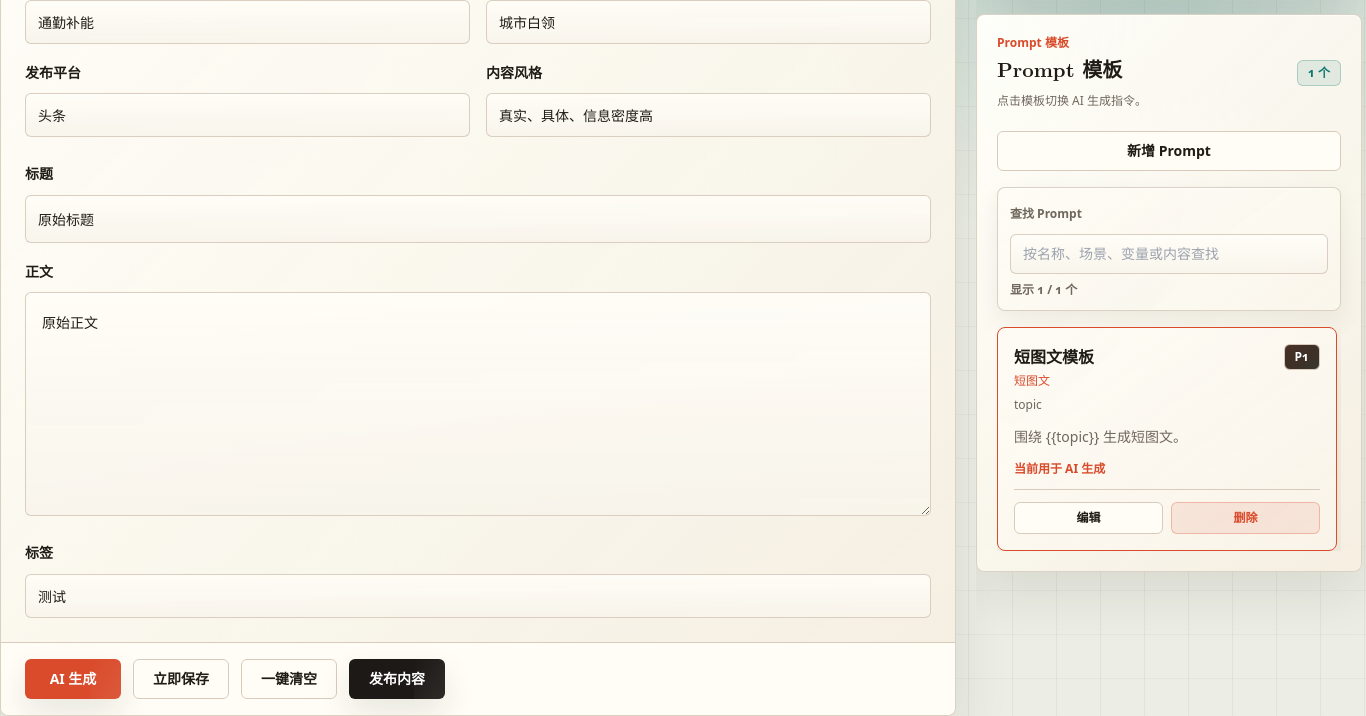
Scenario: creation studio › keeps the current draft visible while AI generation is pending
(page scrolled)
Click the button "AI 生成": (73, 679) [25,659,121,699]
(page scrolled)
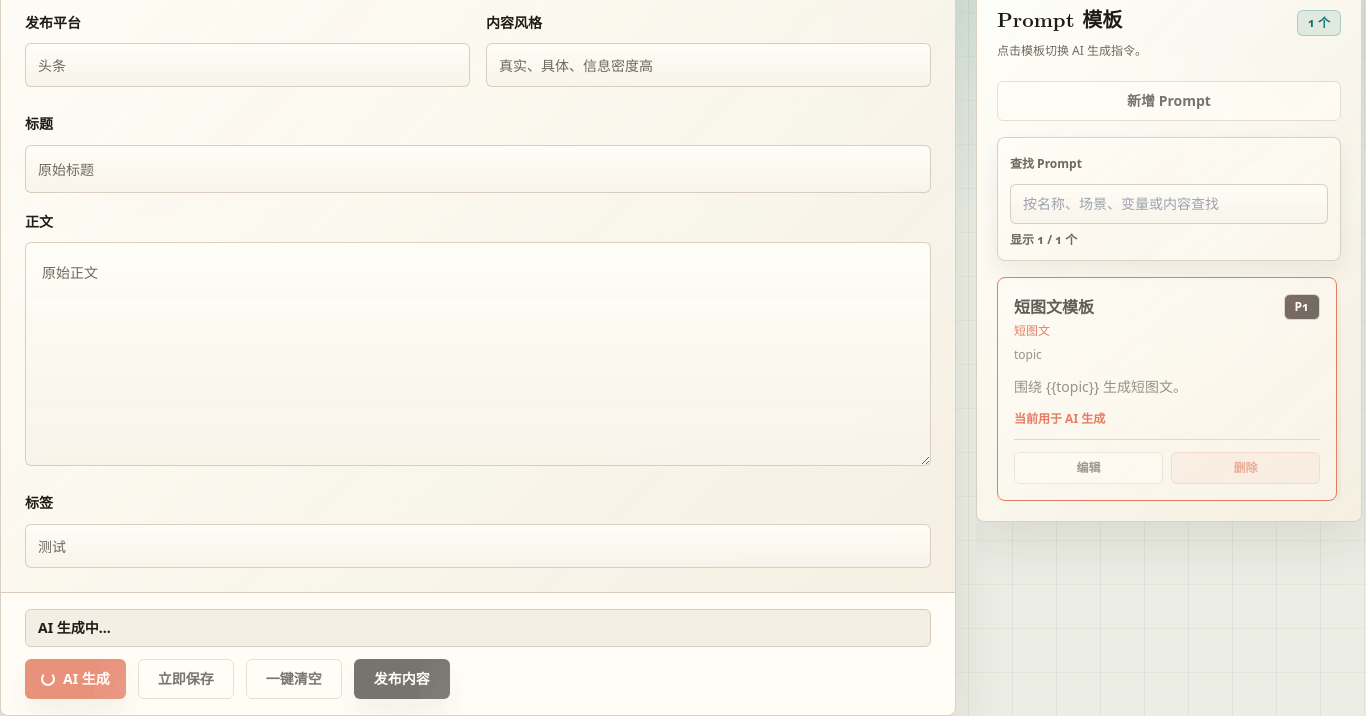
Expected: the text "AI 生成中..." is shown, [38,618,111,638]
Expected: the button "AI 生成" is disabled, [25,659,126,699]
Expected: the button "立即保存" is disabled, [138,659,234,699]
